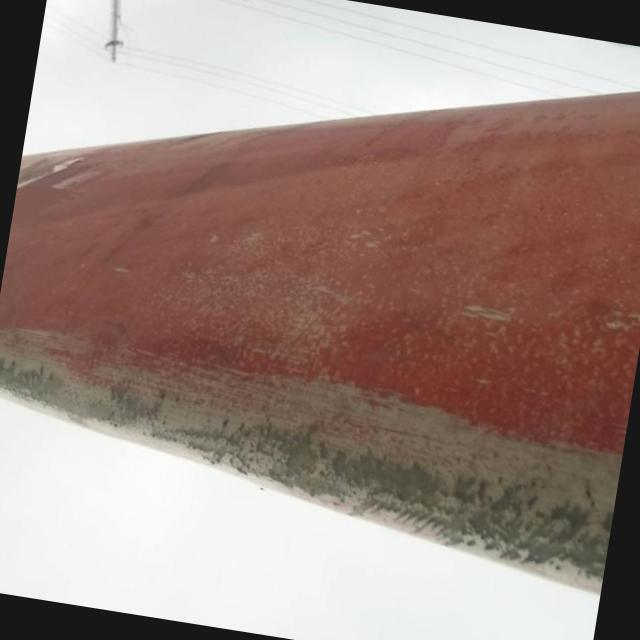corrosion: (0, 352, 613, 587)
